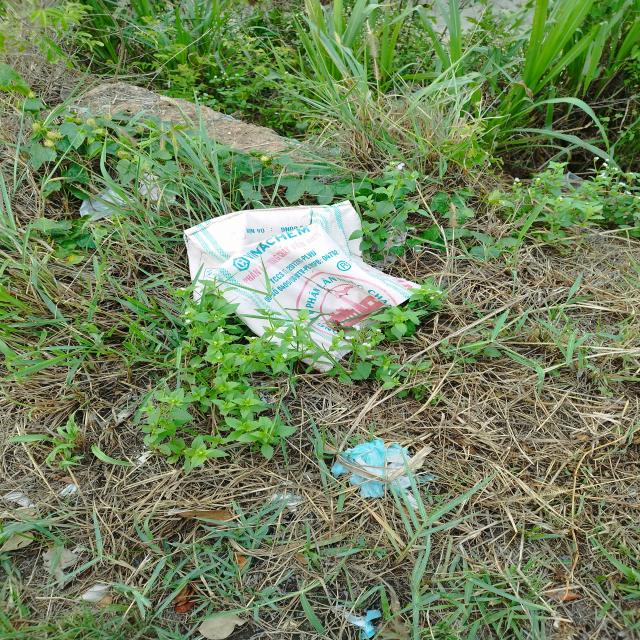bag: (183, 200, 425, 372)
